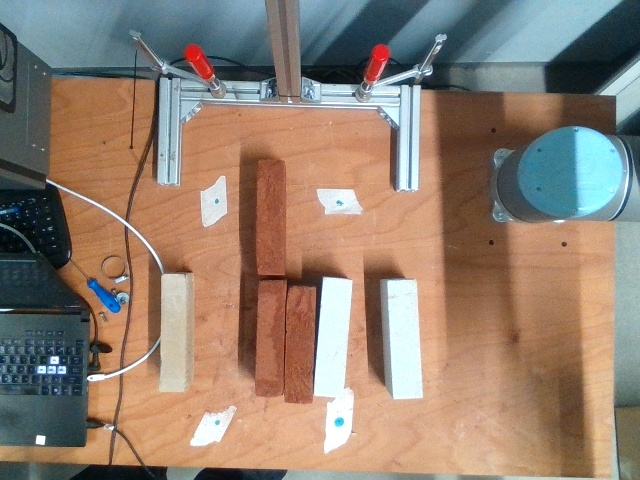brick-side: (313, 279, 351, 397), (387, 280, 419, 398), (257, 159, 286, 276), (257, 280, 285, 397), (160, 275, 188, 392), (286, 287, 313, 404)
